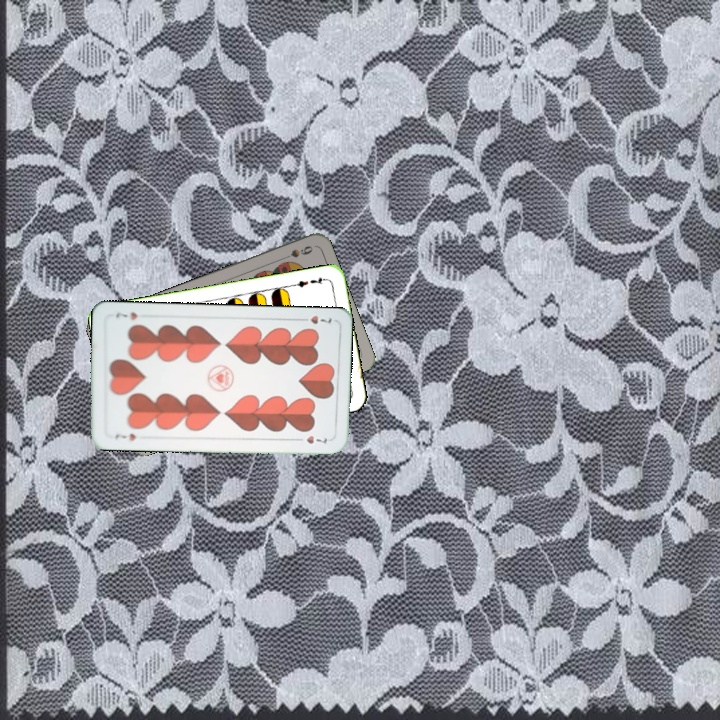E7: (289, 273, 329, 290)
H7: (295, 312, 334, 326), (111, 429, 138, 443)
S9: (276, 242, 316, 263)
